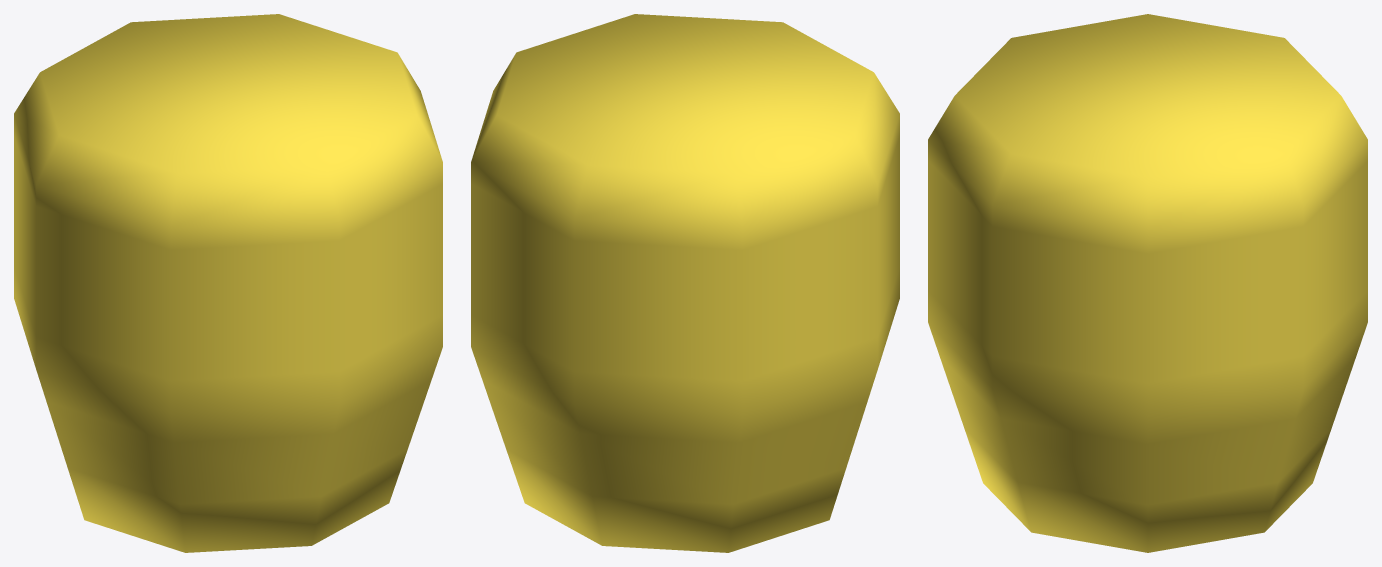
Rendered from lemonade 5.glb.
3 views of the same model, side by side, from view 1: azimuth 30°, elevation 25°; view 2: azimuth 150°, elevation 25°; view 3: azimuth 270°, elevation 25° (orthographic).
Parts seen in each view (by area): view 1: Cylinder.003; view 2: Cylinder.003; view 3: Cylinder.003.
Boxes of the visible parts, left/top/right/bottom form: Cylinder.003: left=14, top=14, right=442, bottom=552; Cylinder.003: left=471, top=14, right=899, bottom=552; Cylinder.003: left=928, top=14, right=1367, bottom=552.
Size of the model in its own units: 1.94 by 1.89 by 1.94.
